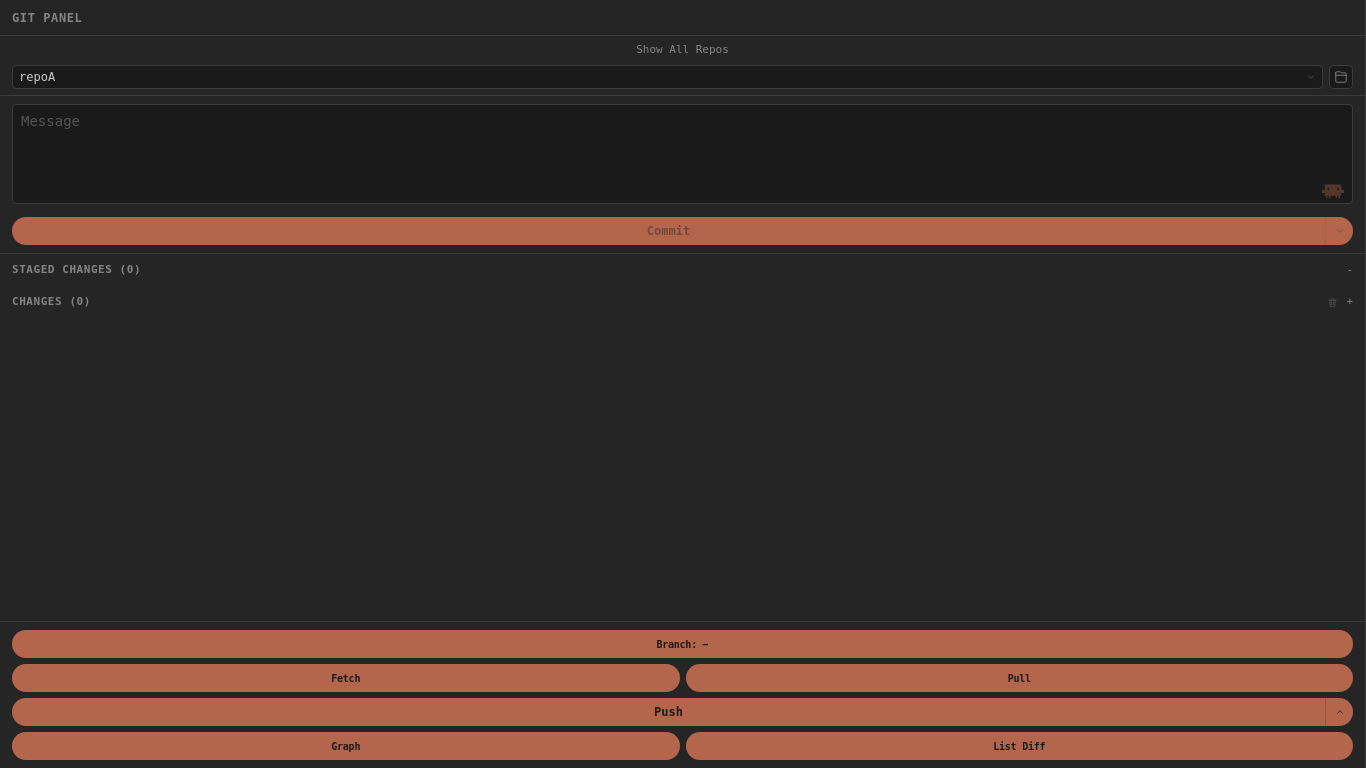
GitPanel — repo dropdown › filters the repo list as the user types
Click the button with aria-label "Select repository": (37, 76) x1=12 y1=64 x2=1323 y2=88
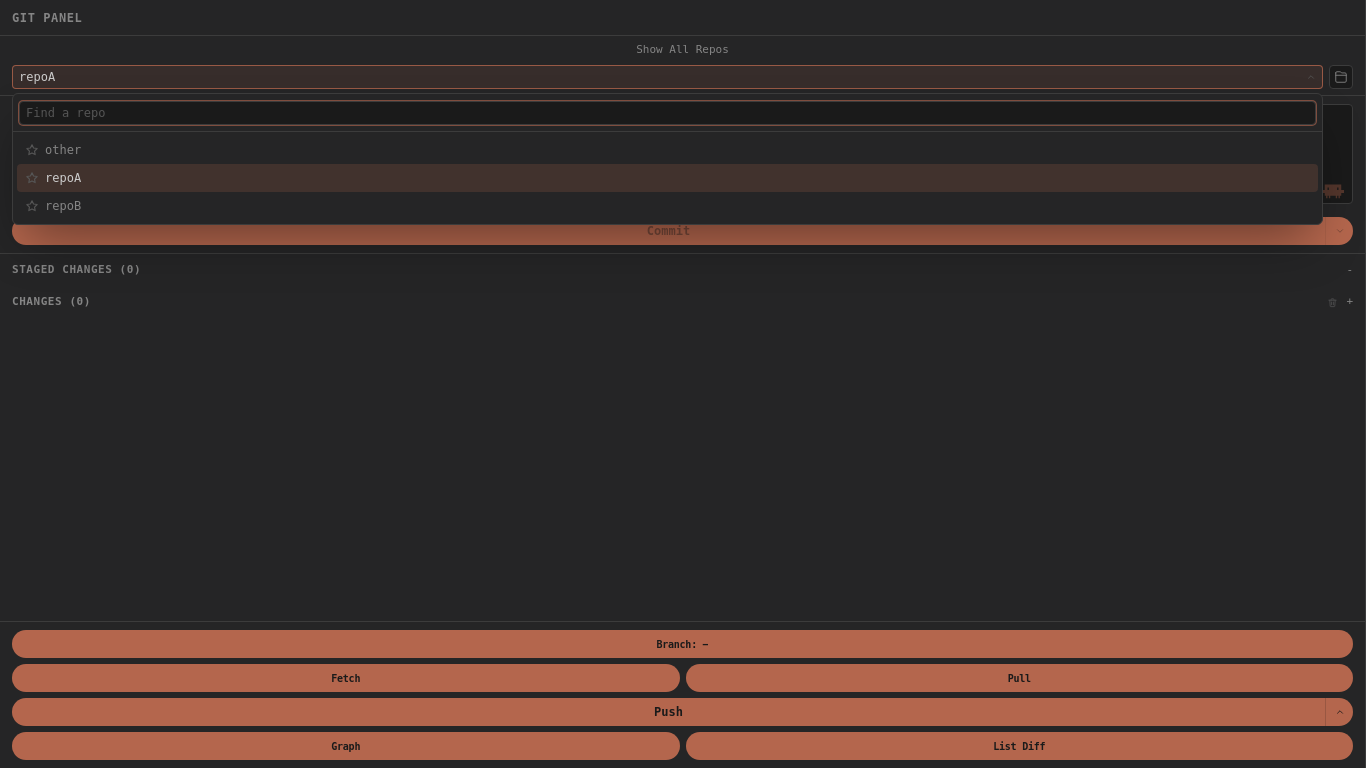
In the field with placeholder "Find a repo": (668, 112) x1=19 y1=100 x2=1316 y2=124, type "repo"
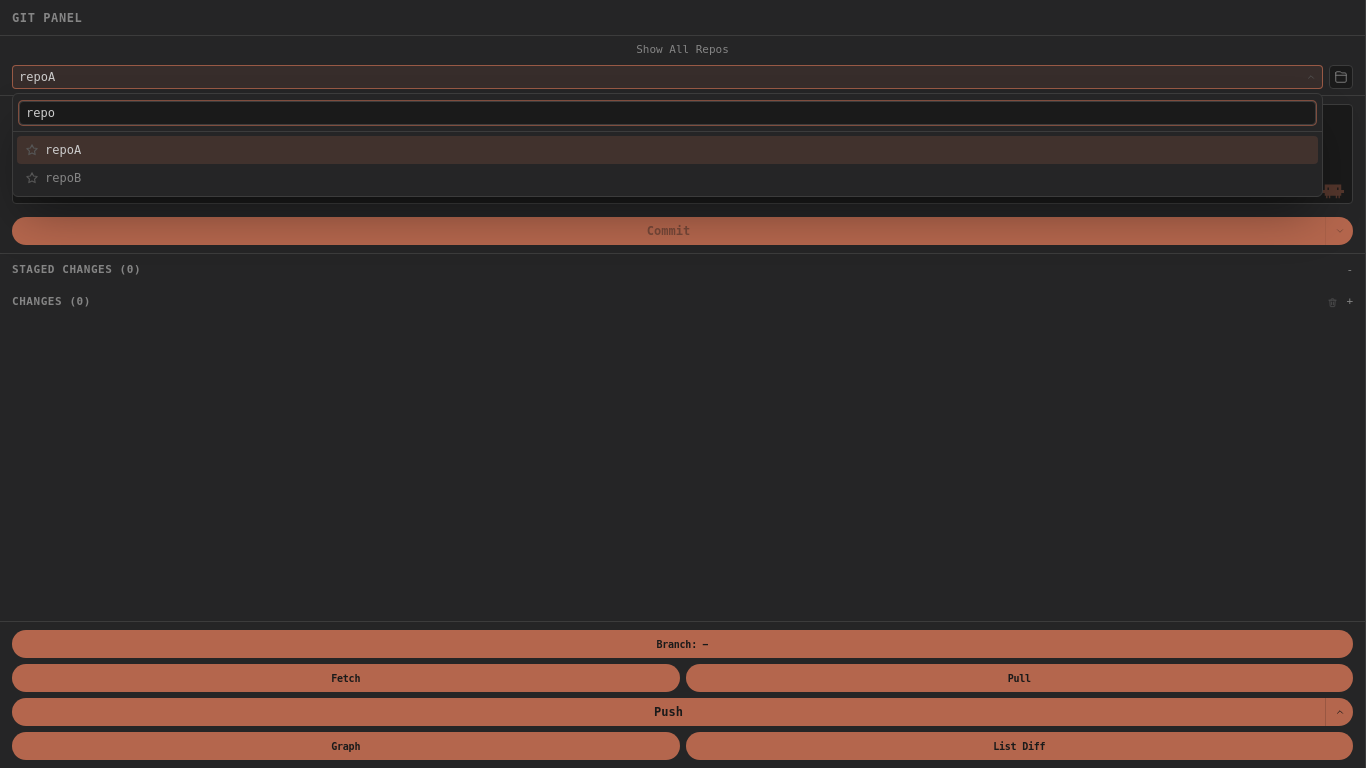
Result: the option "repoA" is shown at x1=17 y1=136 x2=1318 y2=164
Result: the option "repoB" is shown at x1=25 y1=170 x2=81 y2=184
Result: the option "other" is gone
